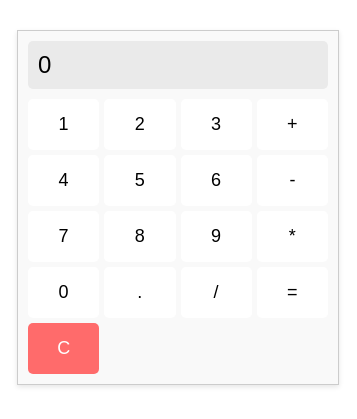
減算が正しく行われること
Click the button "3": click(216, 124) x1=180 y1=98 x2=252 y2=150
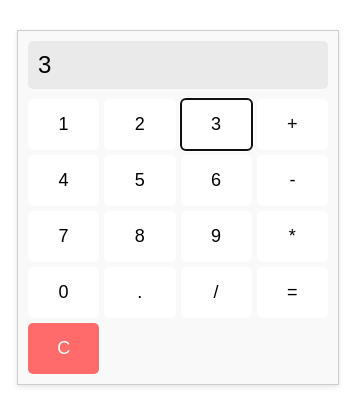
Click the button "-": click(292, 180) x1=257 y1=154 x2=328 y2=206
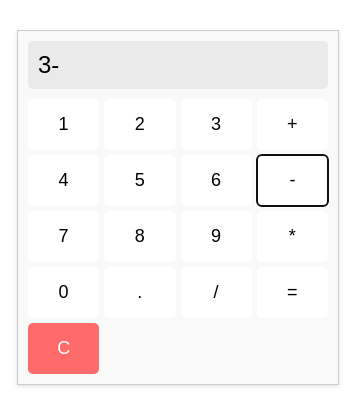
Click the button "2": click(140, 124) x1=104 y1=98 x2=176 y2=150
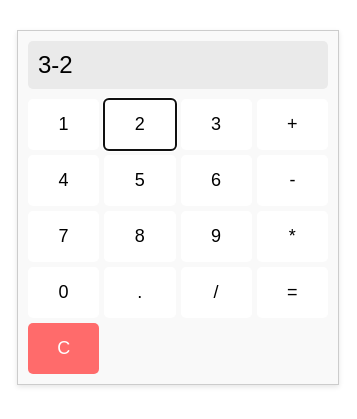
Click the button "=": click(292, 292) x1=257 y1=266 x2=328 y2=318
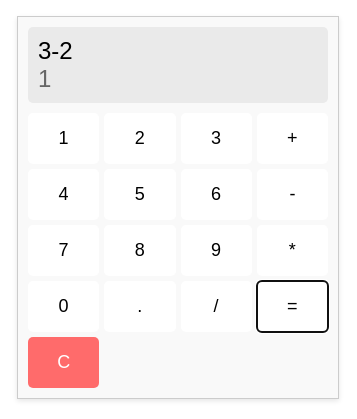
Expected: the text named "result" reads "1", x1=38 y1=64 x2=51 y2=92
